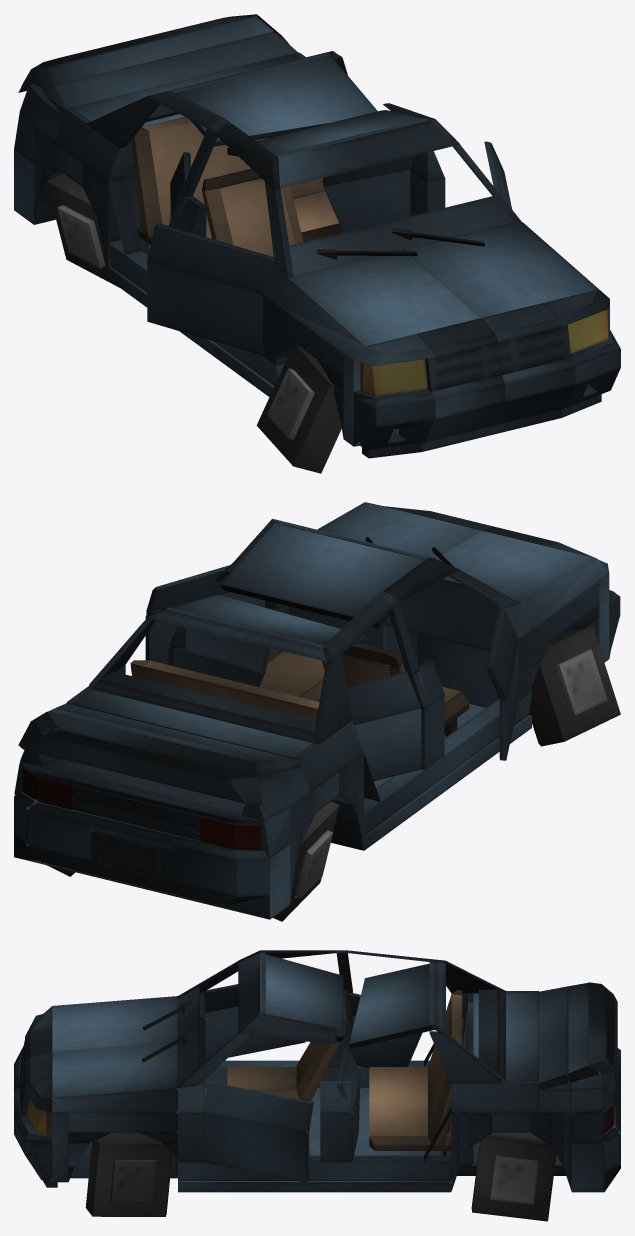
File: wreckage2.obj
3 renders of one model, top to bottom at view 1: azimuth 30°, elevation 25°; view 2: azimuth 150°, elevation 25°; view 3: azimuth 270°, elevation 25°, orthographic. The views are drawn at different scales.
Visible parts, largest first — view 1: baseModel4, baseModel24, baseModel192, baseModel186, baseModel160, baseModel96, baseModel140, baseModel175, baseModel187, baseModel162, baseModel70, baseModel185 (+58 smaller); view 2: baseModel193, baseModel4, baseModel175, baseModel147, baseModel163, baseModel5, baseModel149, baseModel96, baseModel142, baseModel24, baseModel164, baseModel165 (+51 smaller); view 3: baseModel24, baseModel4, baseModel182, baseModel2, baseModel192, baseModel115, baseModel193, baseModel174, baseModel176, baseModel68, baseModel183, baseModel142 (+58 smaller).
Part boxes in pixels (<box>): baseModel4: <box>276,249,481,361</box>; baseModel24: <box>404,221,609,317</box>; baseModel192: <box>172,53,377,146</box>; baseModel186: <box>147,261,262,355</box>; baseModel160: <box>45,32,297,114</box>; baseModel96: <box>289,196,514,275</box>; baseModel140: <box>275,118,454,188</box>; baseModel175: <box>256,346,341,473</box>; baseModel187: <box>147,224,273,294</box>; baseModel162: <box>31,14,281,93</box>; baseModel70: <box>142,117,325,225</box>; baseModel185: <box>323,170,410,232</box>; baseModel193: <box>221,518,428,627</box>; baseModel4: <box>433,530,608,630</box>; baseModel175: <box>529,625,620,746</box>; baseModel147: <box>18,721,262,804</box>; baseModel163: <box>31,712,256,779</box>; baseModel5: <box>364,691,531,835</box>; baseModel149: <box>92,671,316,743</box>; baseModel96: <box>381,579,501,651</box>; baseModel142: <box>73,687,312,758</box>; baseModel24: <box>317,502,480,557</box>; baseModel164: <box>14,833,269,919</box>; baseModel165: <box>172,845,269,896</box>; baseModel24: <box>52,1043,177,1112</box>; baseModel4: <box>52,996,177,1051</box>; baseModel182: <box>203,1113,309,1182</box>; baseModel2: <box>178,1087,451,1192</box>; baseModel192: <box>349,963,434,1048</box>; baseModel115: <box>178,1155,451,1180</box>; baseModel193: <box>260,953,343,1042</box>; baseModel174: <box>85,1135,172,1216</box>; baseModel176: <box>471,1134,556,1221</box>; baseModel68: <box>369,1067,451,1145</box>; baseModel183: <box>203,1081,313,1132</box>; baseModel142: <box>473,993,538,1081</box>.
Bounding box in the file's own units: 3.85 × 2.41 × 6.94.
Materials: 1 (1 with a texture image).
